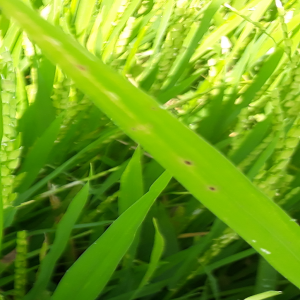Brown_Spot: (73, 61, 88, 73), (180, 156, 194, 168), (205, 183, 219, 195), (128, 124, 141, 135), (147, 104, 160, 115)
